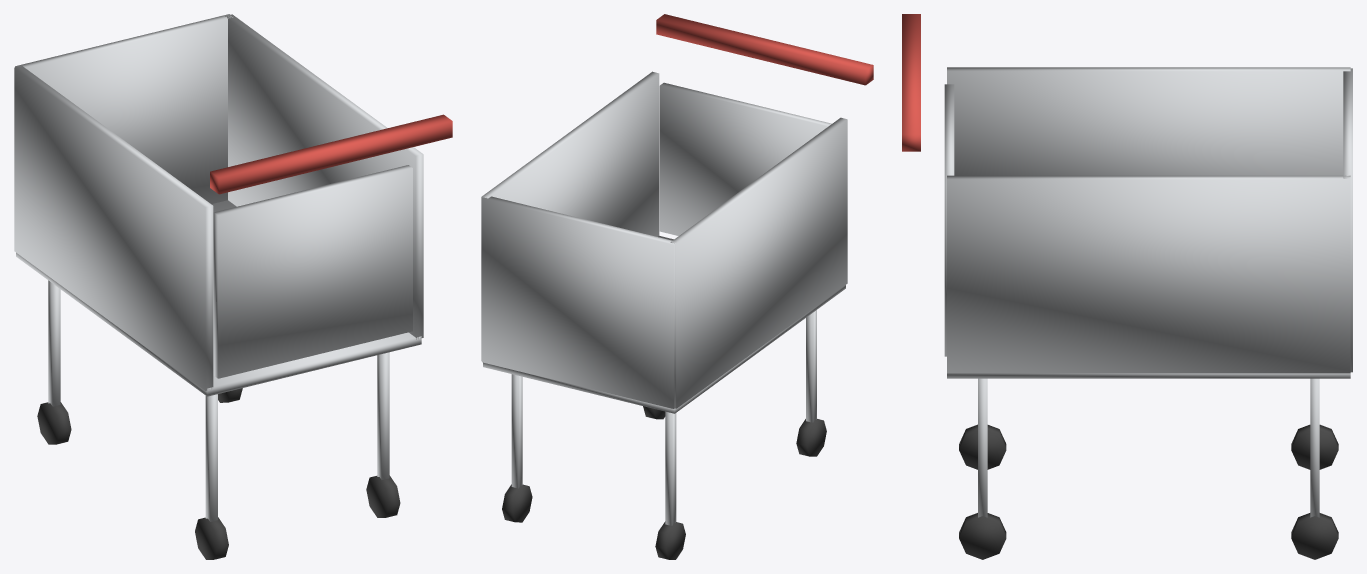
Rendered from lot_cart.glb.
The picture shows the model from 3 angles, left to right: view 1: azimuth 30°, elevation 25°; view 2: azimuth 150°, elevation 25°; view 3: azimuth 270°, elevation 25°; orthographic projection. The views are drawn at different scales.
Parts seen in each view (by area): view 1: lot_cart; view 2: lot_cart; view 3: lot_cart.
Part boxes in pixels (<box>): lot_cart: <box>14,14,452,559</box>; lot_cart: <box>481,14,873,559</box>; lot_cart: <box>902,14,1352,559</box>.
Size of the model in its own units: 0.6 by 1.02 by 0.95.
